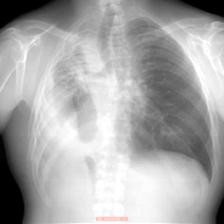tuberculosis: (28, 12, 218, 193)
